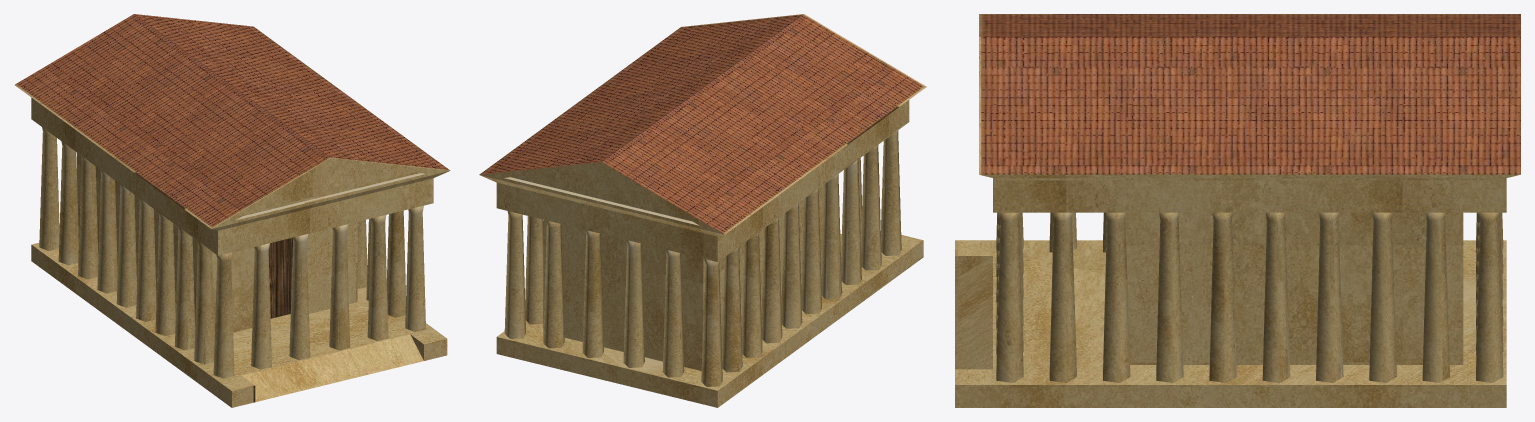
The model's file is cubo12.gltf.
The picture shows the model from 3 angles, left to right: view 1: azimuth 30°, elevation 25°; view 2: azimuth 150°, elevation 25°; view 3: azimuth 270°, elevation 25°; orthographic projection. The views are drawn at different scales.
Visible parts, largest first — view 1: Object_4; view 2: Object_4; view 3: Object_4.
Boxes of the visible parts, bbox=[...] form: Object_4: bbox=[15, 14, 450, 407]; Object_4: bbox=[479, 14, 926, 407]; Object_4: bbox=[955, 14, 1520, 407].
Bounding box in the file's own units: 0.2542 × 0.2203 × 0.3781.
Materials: 1 (1 with a texture image).
